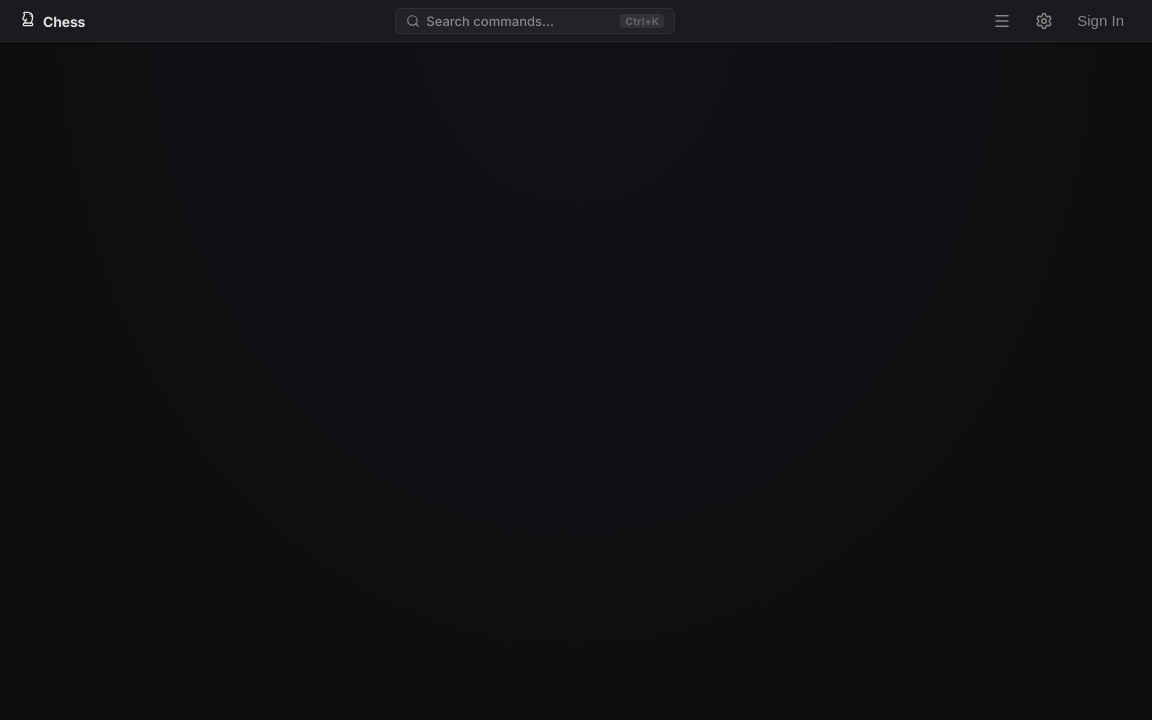
Navbar › command palette › opens command palette on search bar click
The image size is (1152, 720).
Click the text "Search commands...".
click(490, 20)  # box top-left (426, 12), bottom-right (554, 28)
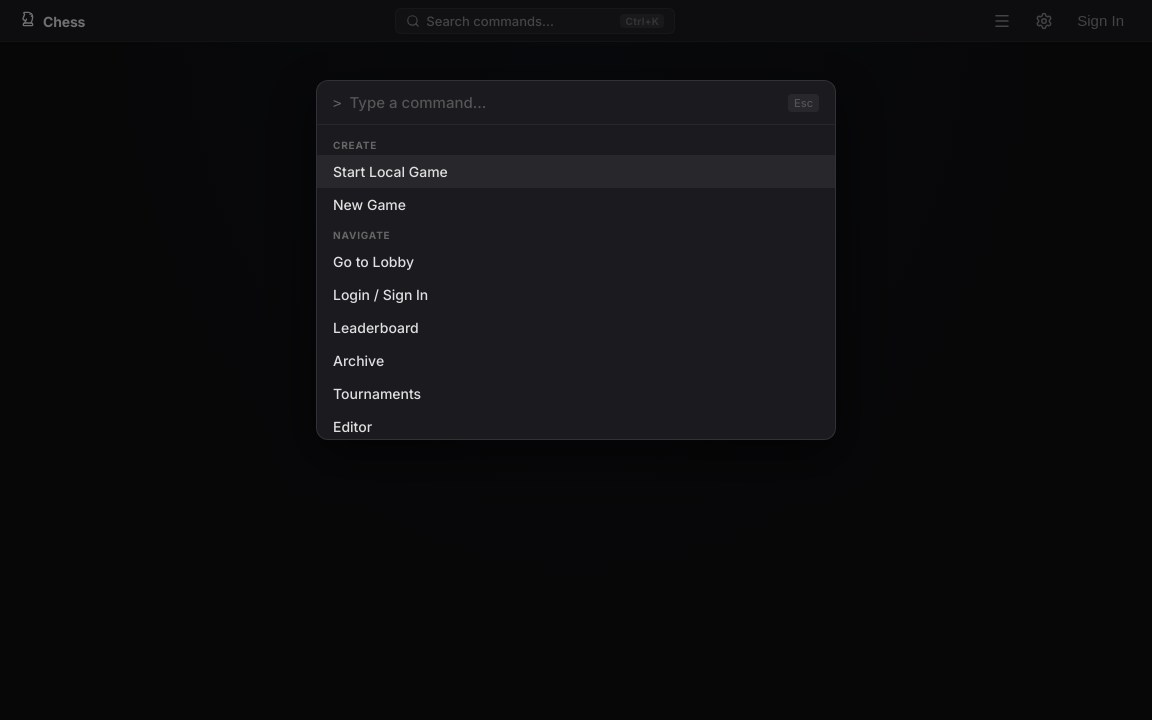
Now the field with placeholder "Type a command..." is shown, box top-left (349, 93), bottom-right (780, 112)
